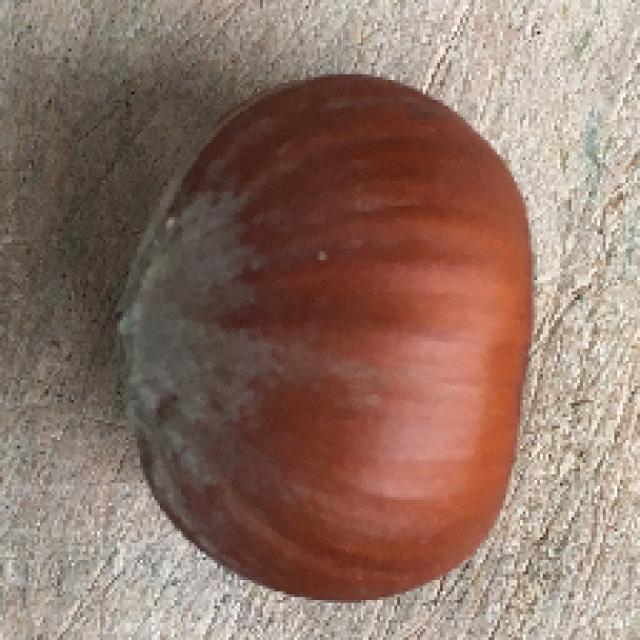qualityHazelnut: (116, 72, 538, 602)
